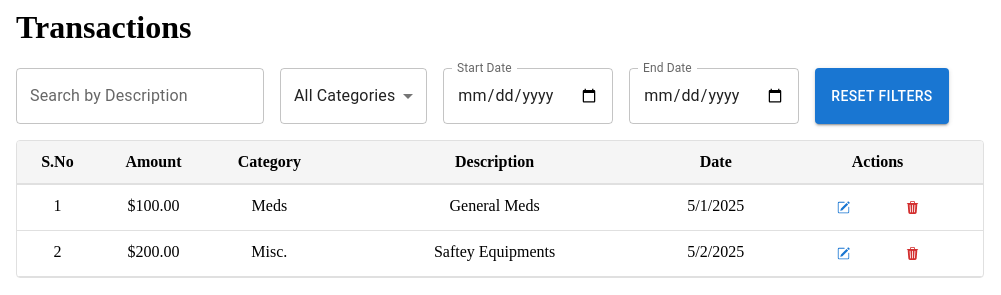
TransactionsPage Component › filters transactions by search term
The width and height of the screenshot is (1001, 295).
Type "General Meds" into the field labelled "Search by Description" at (140, 96), box top-left (16, 68), bottom-right (264, 124)
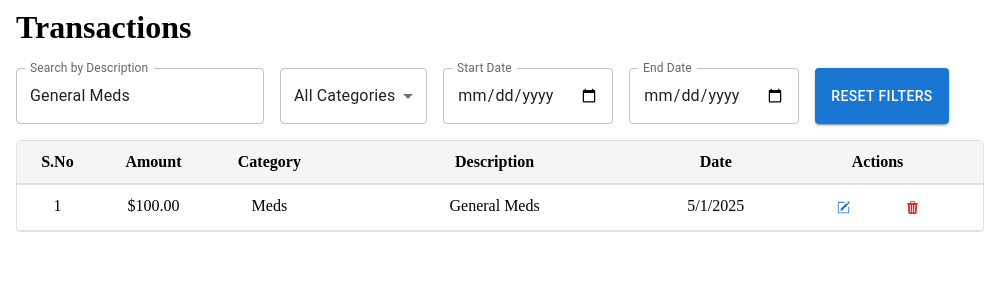
Expected: the text "General Meds" is shown, top-left (330, 184), bottom-right (660, 230)
Expected: the text "Saftey Equipments" is gone
